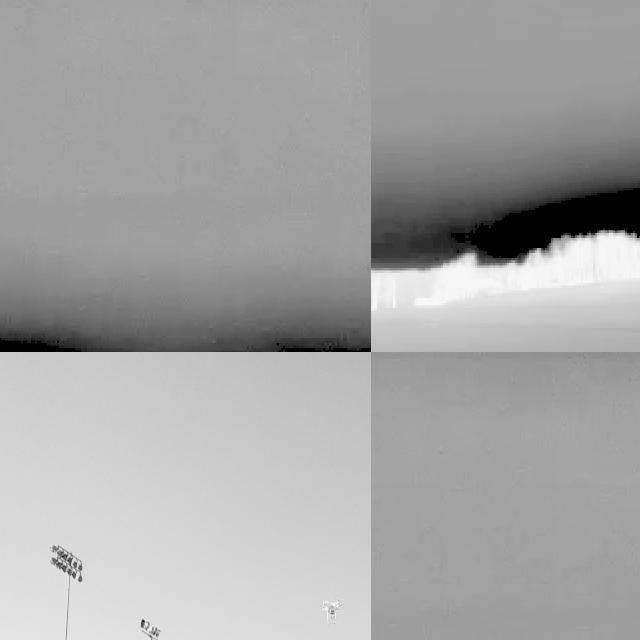drone: (316, 591, 344, 627)
